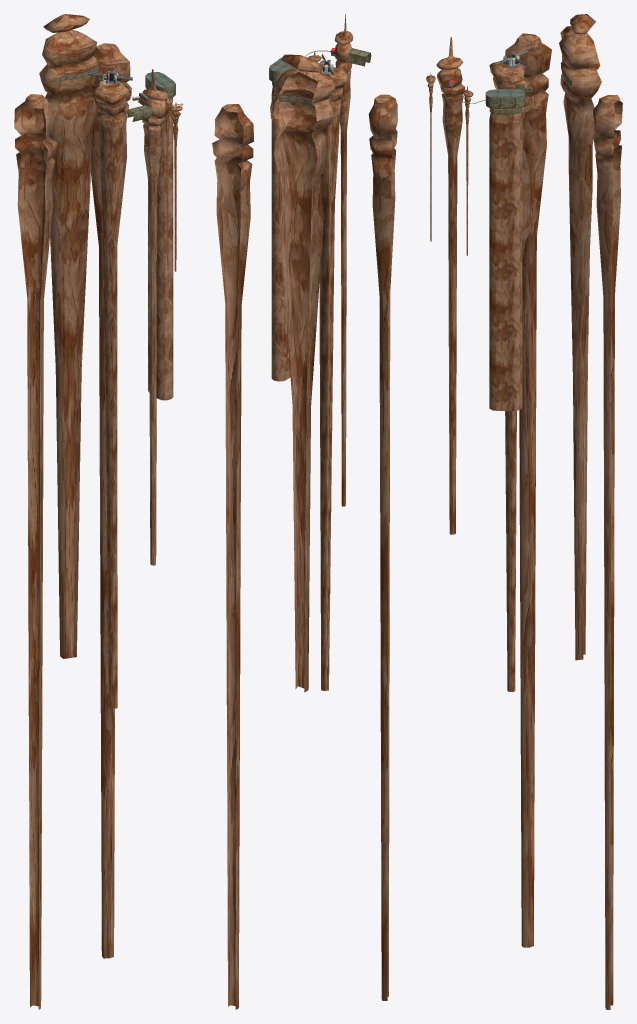
Rendered from Bullet Station 1.fbx.
3 renders of one model, left to right at view 1: azimuth 30°, elevation 25°; view 2: azimuth 150°, elevation 25°; view 3: azimuth 270°, elevation 25°, orthographic.
Visible parts, largest first — view 1: STG08_ON_01; view 2: STG08_ON_01; view 3: STG08_ON_01.
Part boxes in pixels (x1,y1,x2,y2): STG08_ON_01: (14, 14, 183, 1009); STG08_ON_01: (212, 14, 397, 1009); STG08_ON_01: (426, 14, 622, 1009).
Bounding box in the file's own units: 796314 × 5025566 × 929578.
